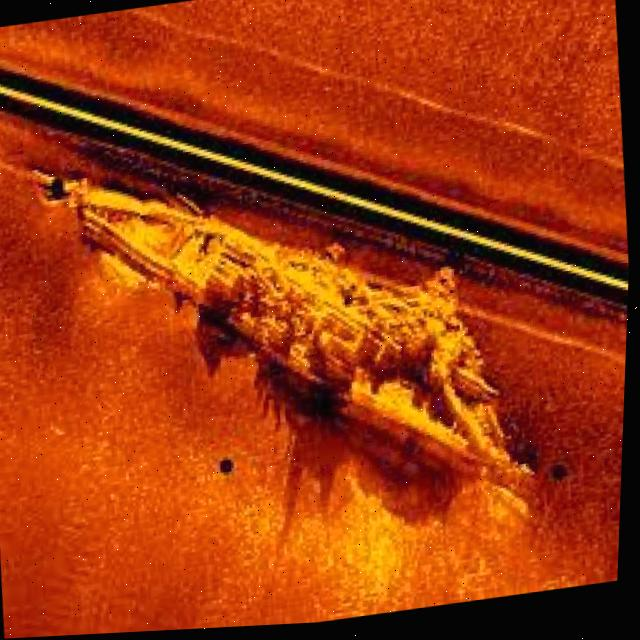shipwreck: (15, 107, 552, 577)
